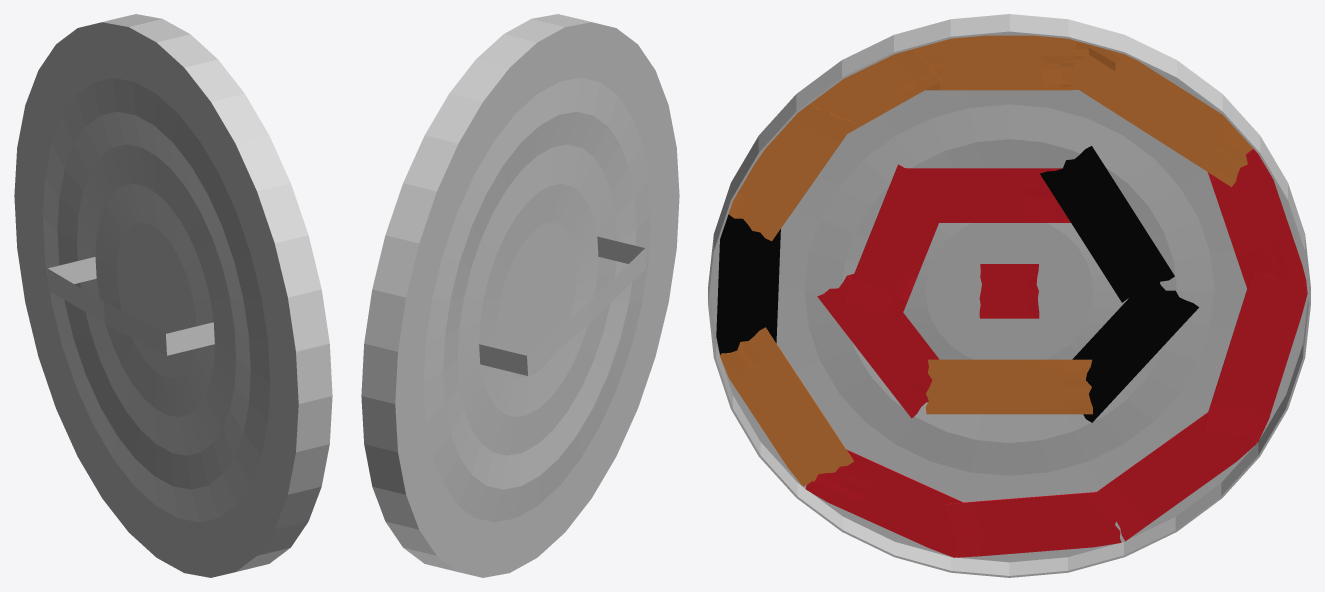
File: Target.fbx
The picture shows the model from 3 angles, left to right: view 1: azimuth 30°, elevation 25°; view 2: azimuth 150°, elevation 25°; view 3: azimuth 270°, elevation 25°; orthographic projection. The views are drawn at different scales.
Parts seen in each view (by area): view 1: Target; view 2: Target; view 3: Target, Scotch.008, Scotch.010, Scotch.014, Scotch.001, Scotch.003, Scotch.012, Scotch.011, Scotch.002, Scotch.007, Scotch.016, Scotch.013 (+7 smaller).
Part boxes in pixels (bbox=[...]): Target: bbox=[14, 14, 332, 577]; Target: bbox=[361, 14, 679, 577]; Target: bbox=[708, 14, 1310, 577]; Scotch.008: bbox=[1061, 45, 1253, 186]; Scotch.010: bbox=[1202, 272, 1307, 442]; Scotch.014: bbox=[720, 327, 853, 486]; Scotch.001: bbox=[925, 359, 1092, 414]; Scotch.003: bbox=[1040, 146, 1174, 302]; Scotch.012: bbox=[946, 492, 1121, 557]; Scotch.011: bbox=[1087, 402, 1256, 541]; Scotch.002: bbox=[900, 168, 1070, 222]; Scotch.007: bbox=[914, 35, 1089, 90]; Scotch.016: bbox=[728, 103, 854, 241]; Scotch.013: bbox=[805, 449, 963, 557].
Size of the model in its own units: 69.84 by 400 by 400.
